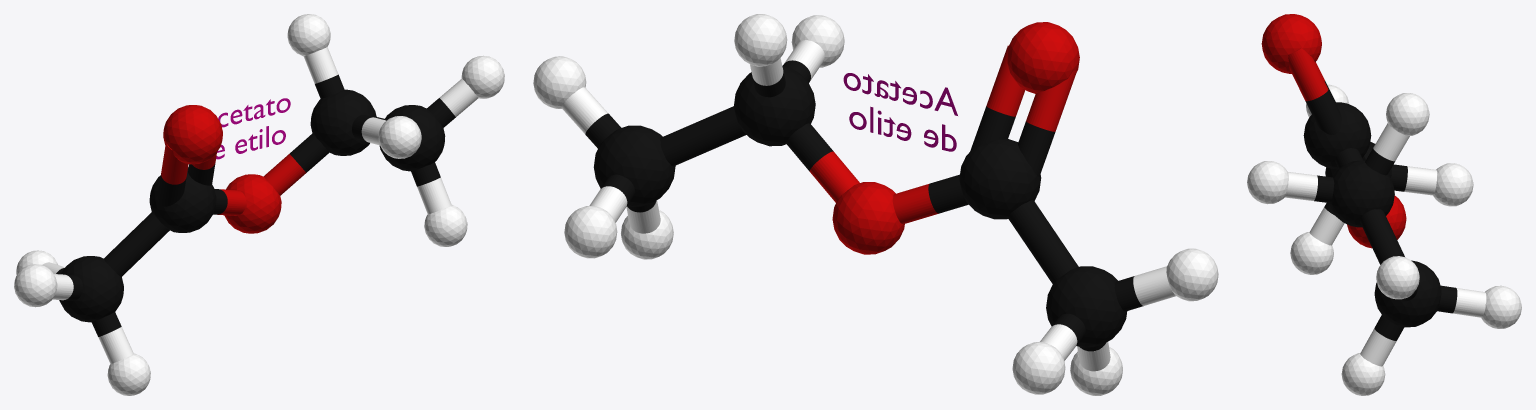
File: acetato de etilo.obj
3 renders of one model, left to right at view 1: azimuth 30°, elevation 25°; view 2: azimuth 150°, elevation 25°; view 3: azimuth 270°, elevation 25°, orthographic. The views are drawn at different scales.
Visible parts, largest first — view 1: Shape_IndexedFaceSet.035_Shape_IndexedFaceSet.006, Shape_IndexedFaceSet.019_Shape_IndexedFaceSet.005, Shape_IndexedFaceSet.047_Shape_IndexedFaceSet.007, Text_Text.008; view 2: Shape_IndexedFaceSet.035_Shape_IndexedFaceSet.006, Shape_IndexedFaceSet.019_Shape_IndexedFaceSet.005, Shape_IndexedFaceSet.047_Shape_IndexedFaceSet.007, Text_Text.008; view 3: Shape_IndexedFaceSet.019_Shape_IndexedFaceSet.005, Shape_IndexedFaceSet.035_Shape_IndexedFaceSet.006, Shape_IndexedFaceSet.047_Shape_IndexedFaceSet.007.
Part boxes in pixels (left/top/right/bottom): Shape_IndexedFaceSet.035_Shape_IndexedFaceSet.006: left=56, top=74, right=455, bottom=336; Shape_IndexedFaceSet.019_Shape_IndexedFaceSet.005: left=14, top=14, right=504, bottom=395; Shape_IndexedFaceSet.047_Shape_IndexedFaceSet.007: left=161, top=105, right=305, bottom=233; Text_Text.008: left=216, top=98, right=290, bottom=159; Shape_IndexedFaceSet.035_Shape_IndexedFaceSet.006: left=585, top=60, right=1143, bottom=351; Shape_IndexedFaceSet.019_Shape_IndexedFaceSet.005: left=533, top=14, right=1218, bottom=395; Shape_IndexedFaceSet.047_Shape_IndexedFaceSet.007: left=809, top=22, right=1079, bottom=254; Text_Text.008: left=843, top=73, right=957, bottom=151; Shape_IndexedFaceSet.019_Shape_IndexedFaceSet.005: left=1247, top=84, right=1521, bottom=395; Shape_IndexedFaceSet.035_Shape_IndexedFaceSet.006: left=1303, top=81, right=1457, bottom=340; Shape_IndexedFaceSet.047_Shape_IndexedFaceSet.007: left=1261, top=14, right=1406, bottom=248.
Bounding box in the file's own units: 69.87 × 36.99 × 31.78.
